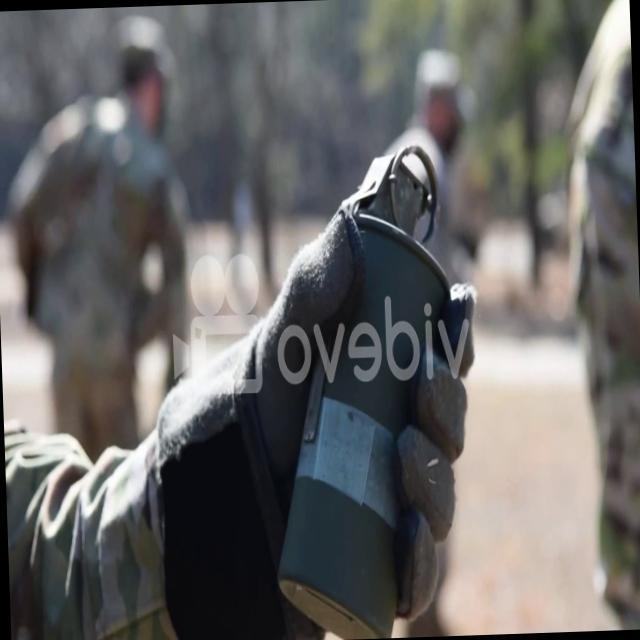grenade: (260, 135, 478, 634)
